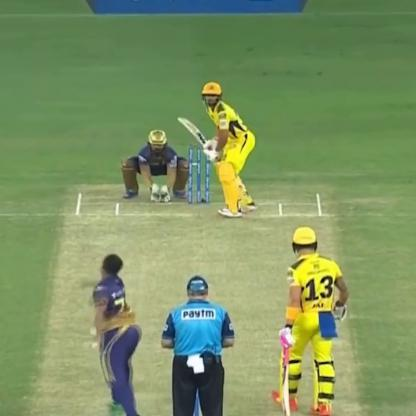ball: (86, 327, 100, 339), (88, 338, 102, 350)
bat: (268, 322, 306, 414), (175, 112, 216, 162)
pitch: (30, 186, 357, 416)
